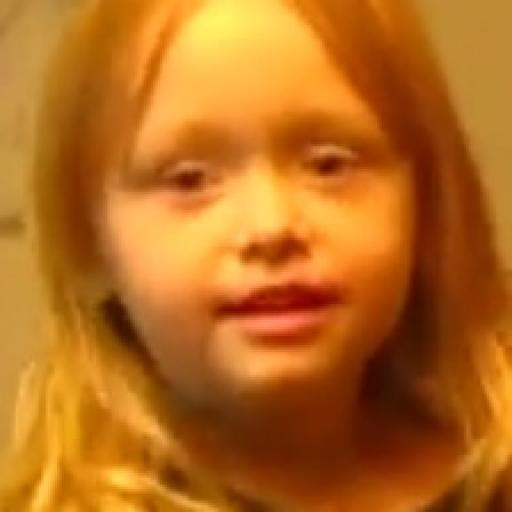Autism: (57, 20, 406, 405)
